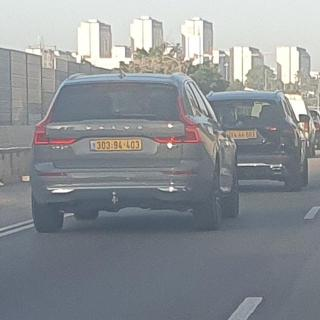LicensePlate: (96, 140, 141, 150), (227, 131, 256, 138)
